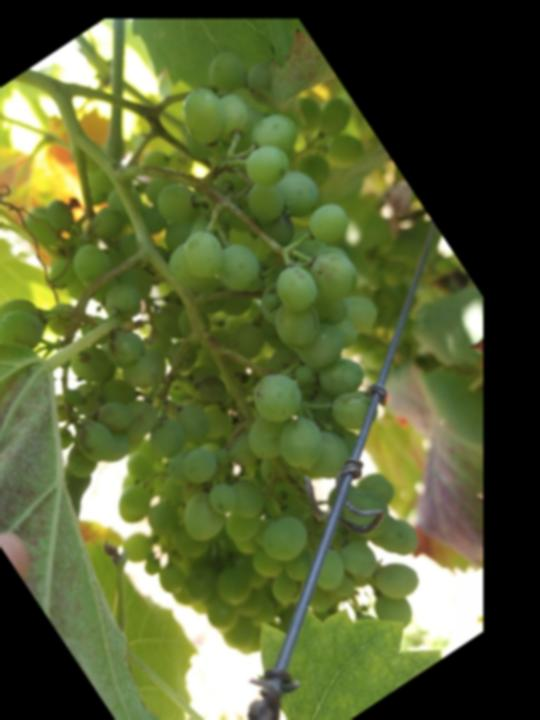grape: (0, 7, 540, 720)
